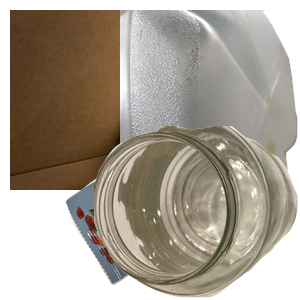cardboard: (10, 10, 250, 190)
glass: (94, 126, 300, 300)
plastic: (120, 10, 300, 190)
trash: (63, 137, 289, 300)
